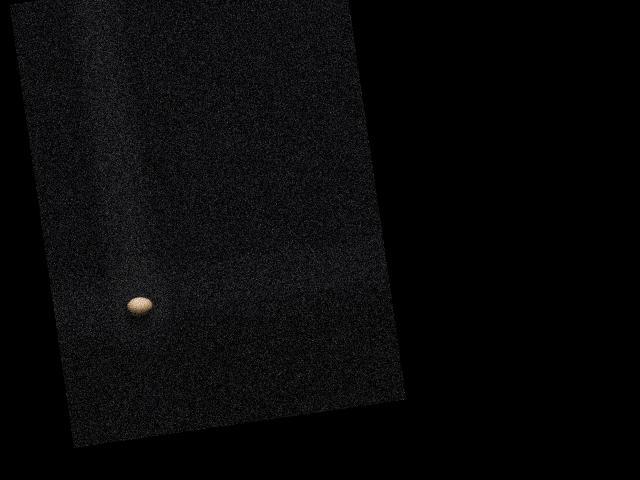egg: (125, 295, 154, 317)
